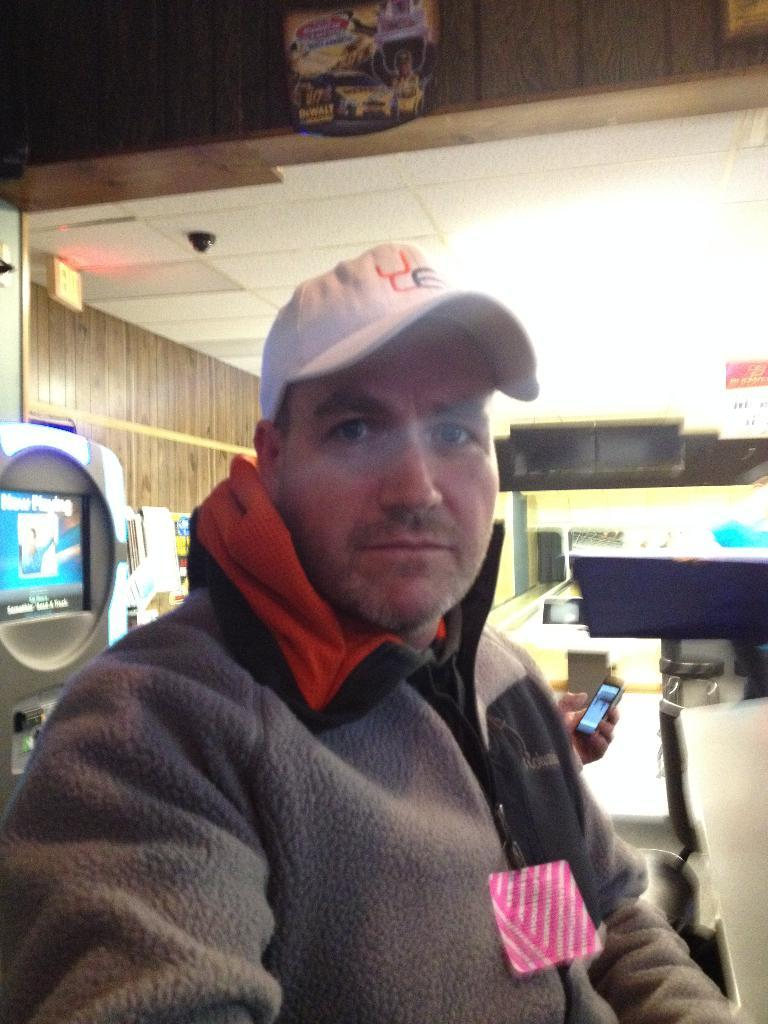Hat: (262, 236, 536, 430)
